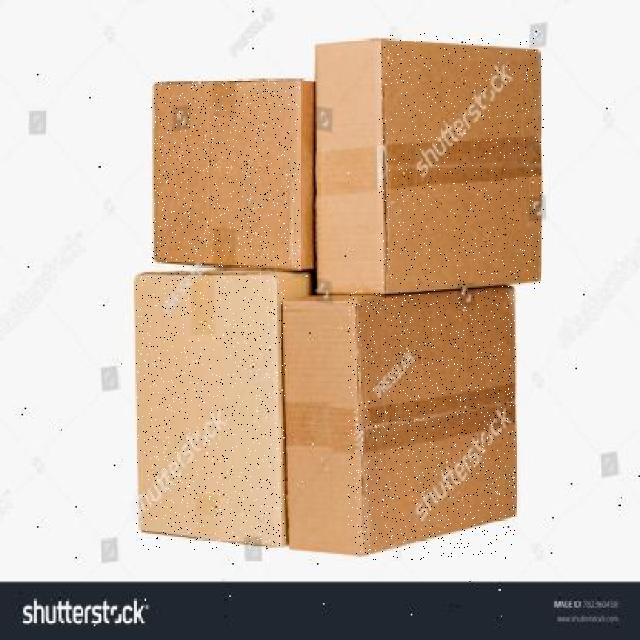BoxFace: (348, 291, 516, 560), (379, 32, 544, 291), (136, 273, 286, 550), (151, 81, 300, 268)
